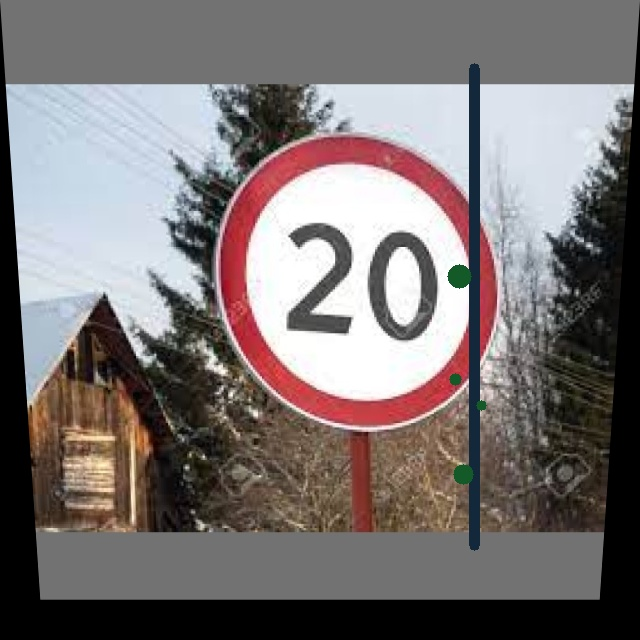Speed_Limit_20: (214, 133, 506, 426)
